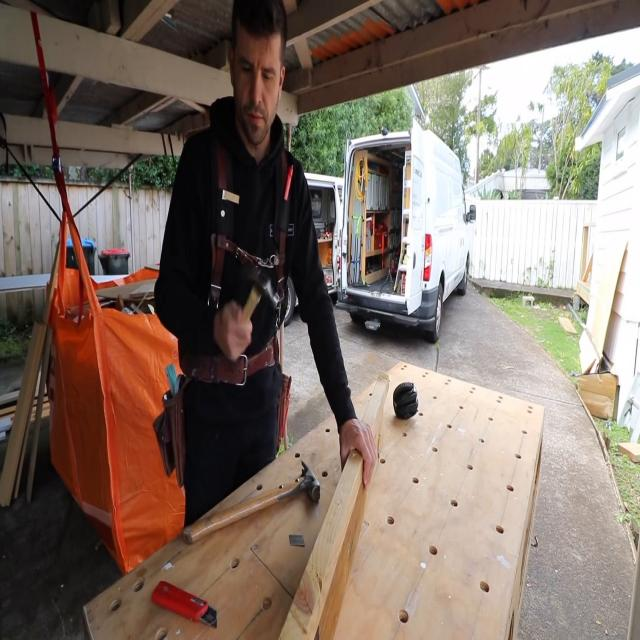hammer: (182, 458, 326, 548), (240, 266, 280, 341)
